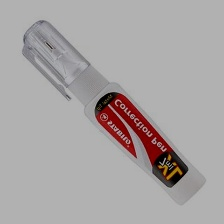correction_fluid: (21, 18, 207, 205)
